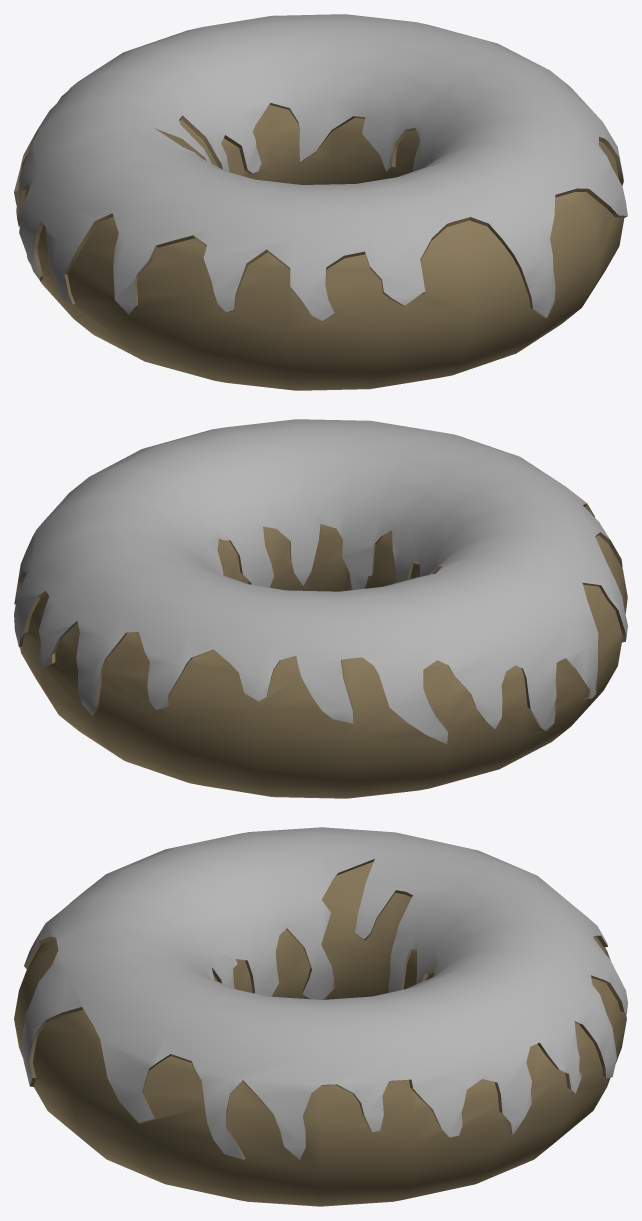
Rendered from donut.fbx.
3 renders of one model, top to bottom at view 1: azimuth 30°, elevation 25°; view 2: azimuth 150°, elevation 25°; view 3: azimuth 270°, elevation 25°, orthographic.
Parts seen in each view (by area): view 1: pTorus1; view 2: pTorus1; view 3: pTorus1.
Part boxes in pixels (box(x1,y1,x2,y2)): pTorus1: box(14, 14, 627, 390); pTorus1: box(14, 419, 627, 798); pTorus1: box(14, 827, 627, 1206).
Size of the model in its own units: 3.03 by 1.02 by 3.01.
